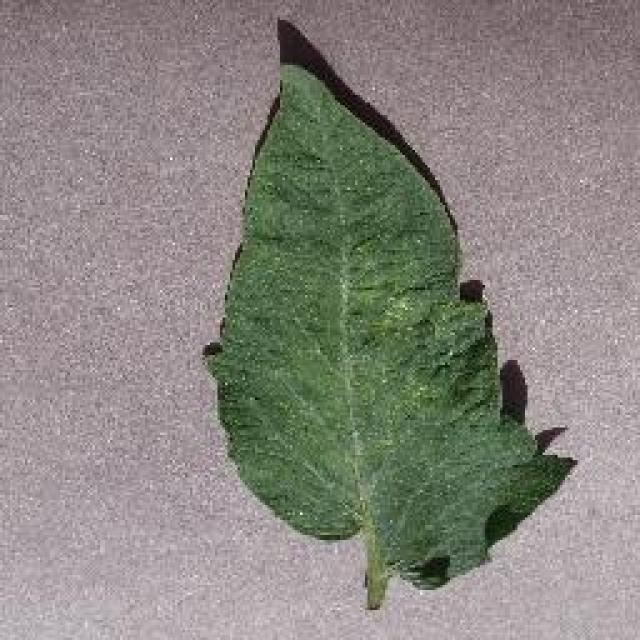Tom_Spider_mites Two-spotted_spider_mite: (241, 166, 469, 442)
